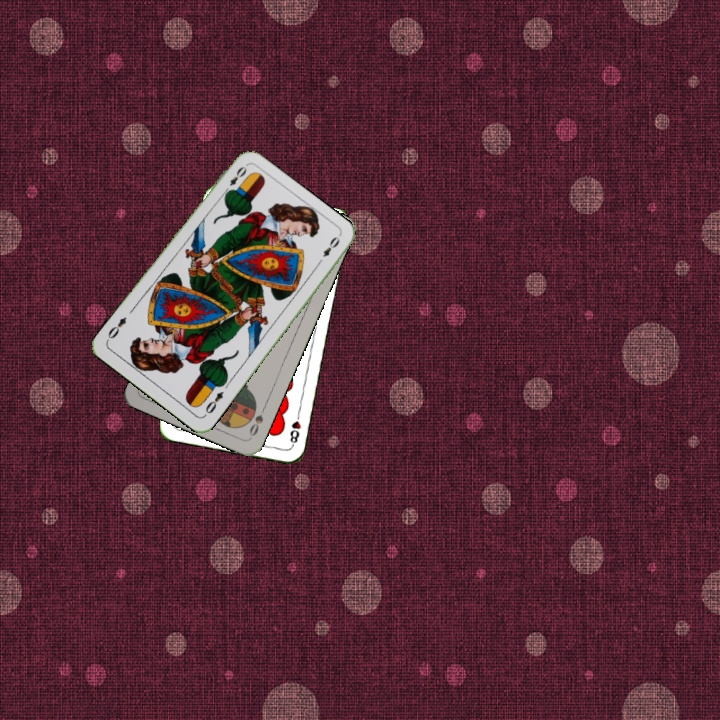EO: (220, 162, 249, 197), (201, 387, 226, 416)
H8: (286, 408, 303, 448)
SO: (245, 402, 268, 441)
